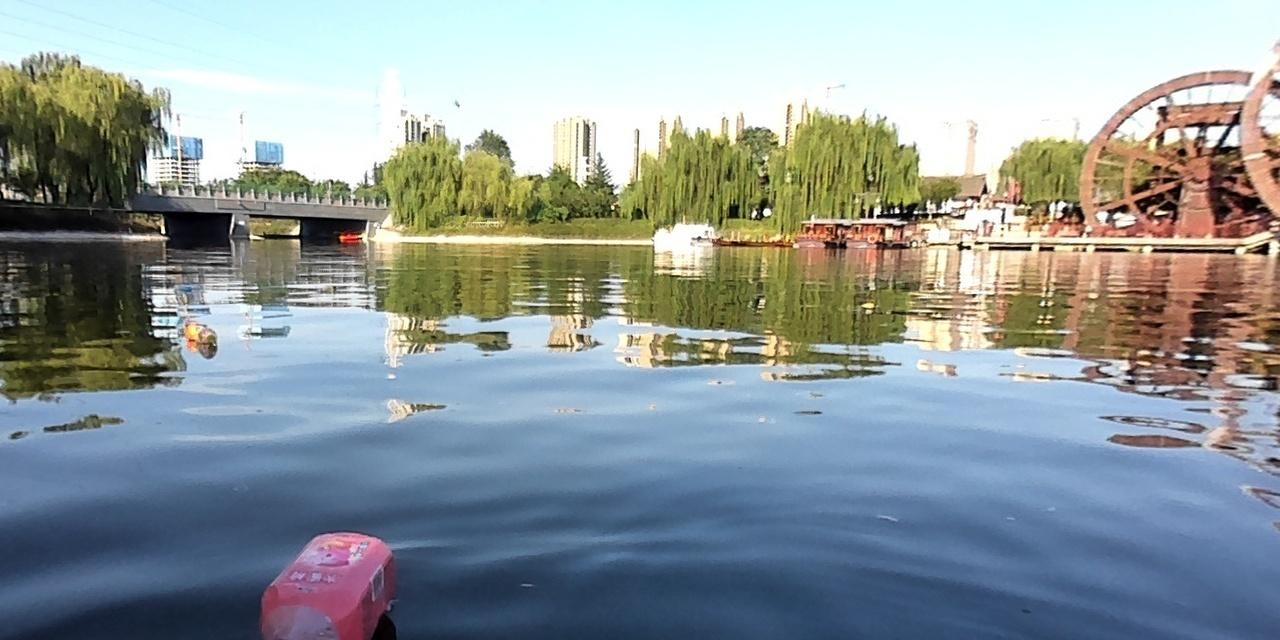bottle: (257, 528, 400, 638), (179, 314, 220, 346)
